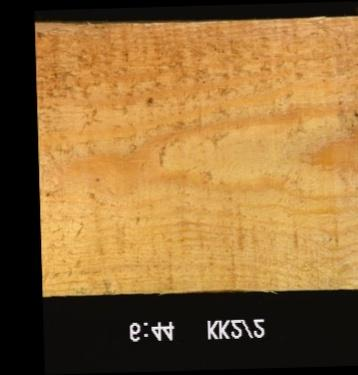small_knot: (143, 95, 153, 106)
